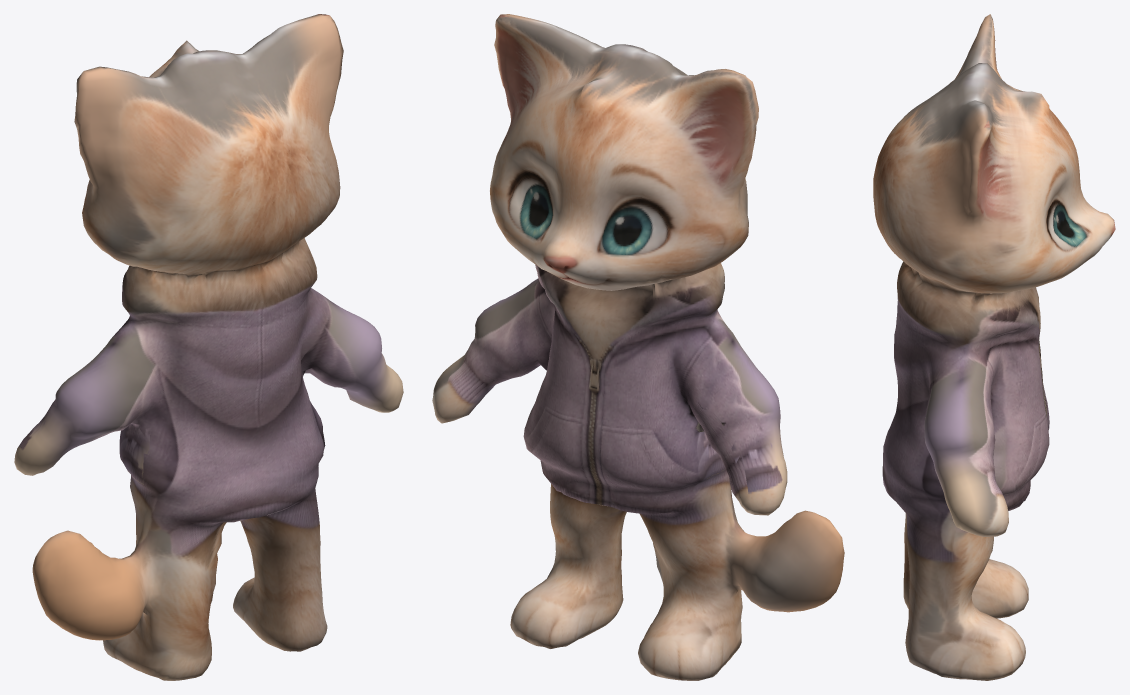
The model's file is milo-quad-study.glb.
3 views of the same model, side by side, from view 1: azimuth 30°, elevation 25°; view 2: azimuth 150°, elevation 25°; view 3: azimuth 270°, elevation 25° (orthographic). The views are drawn at different scales.
Parts seen in each view (by area): view 1: MILO_AUTOQUAD_UNAPPROVED; view 2: MILO_AUTOQUAD_UNAPPROVED; view 3: MILO_AUTOQUAD_UNAPPROVED.
Boxes of the visible parts, x1,y1,x2,y2 form: MILO_AUTOQUAD_UNAPPROVED: (14,14,403,680); MILO_AUTOQUAD_UNAPPROVED: (432,14,844,680); MILO_AUTOQUAD_UNAPPROVED: (873,14,1115,680).
Size of the model in its own units: 1.33 by 1.99 by 0.7697.
Materials: 1 (1 with a texture image).
